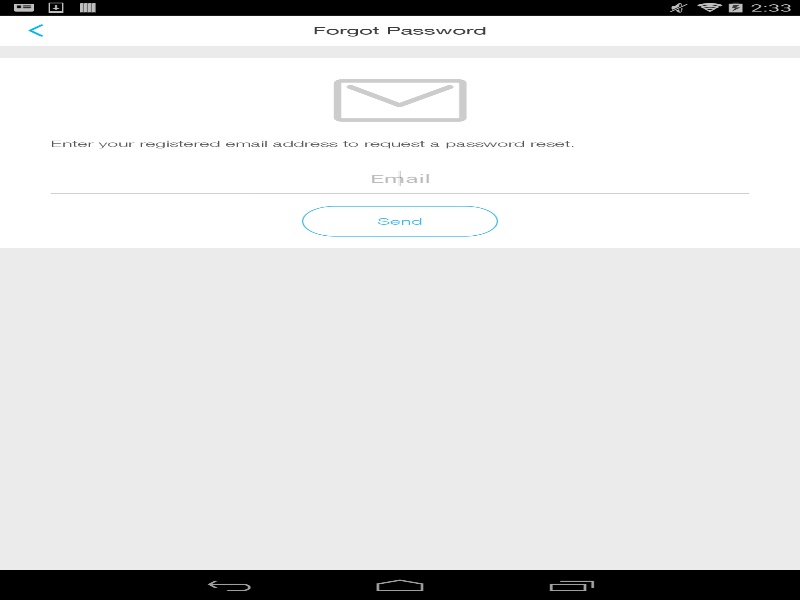Button: (302, 205, 498, 236), (0, 15, 72, 45)
Input: (50, 163, 749, 193)
